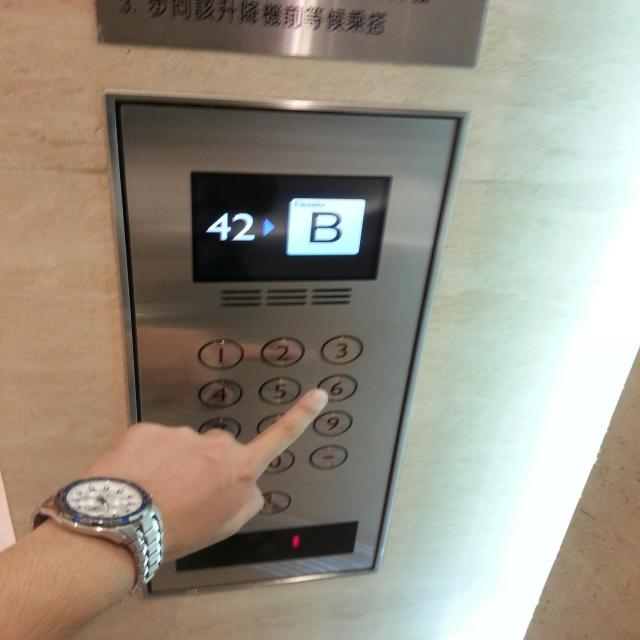-: (307, 441, 353, 471)
1: (194, 335, 246, 371)
2: (255, 333, 308, 370)
3: (314, 331, 368, 367)
4: (194, 374, 246, 411)
5: (256, 372, 303, 406)
6: (314, 370, 361, 404)
9: (310, 407, 356, 437)
led: (182, 164, 393, 286), (167, 517, 363, 573)
